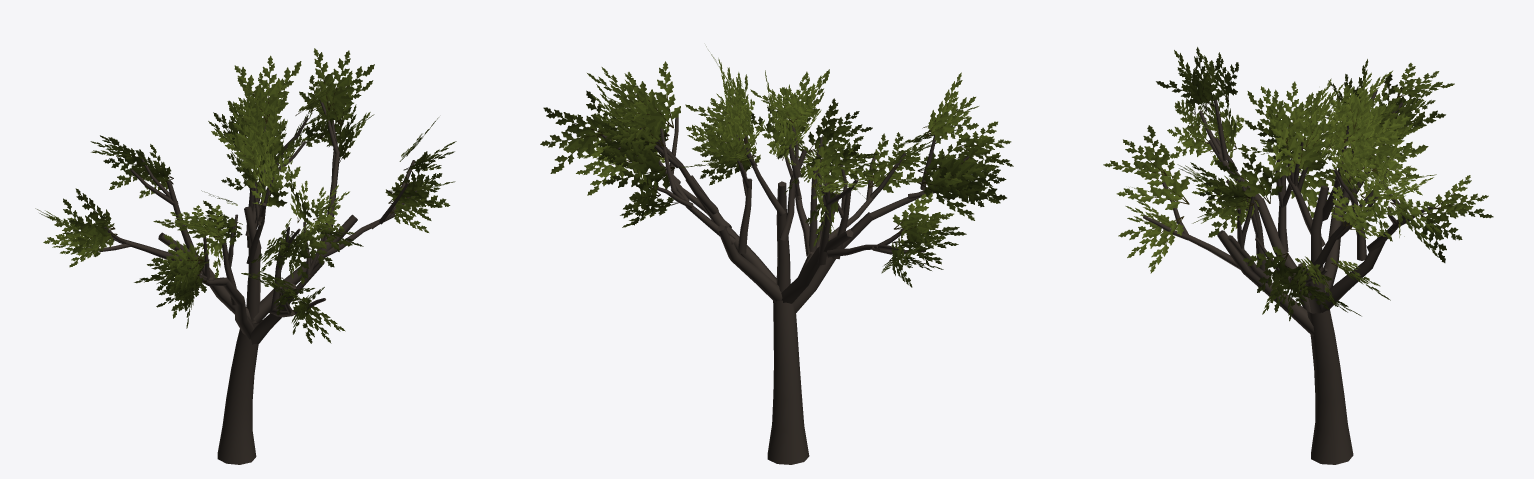
The model's file is oak_3_burnt2.glb.
3 views of the same model, side by side, from view 1: azimuth 30°, elevation 25°; view 2: azimuth 150°, elevation 25°; view 3: azimuth 270°, elevation 25° (orthographic). The views are drawn at different scales.
Visible parts, largest first — view 1: oak_3_burnt2; view 2: oak_3_burnt2; view 3: oak_3_burnt2.
Boxes of the visible parts, x1,y1,x2,y2 form: oak_3_burnt2: (35, 48, 456, 464); oak_3_burnt2: (540, 46, 1013, 464); oak_3_burnt2: (1103, 47, 1493, 464).
Size of the model in its own units: 10.97 by 9.61 by 8.95.
2 materials, 1 textured.
